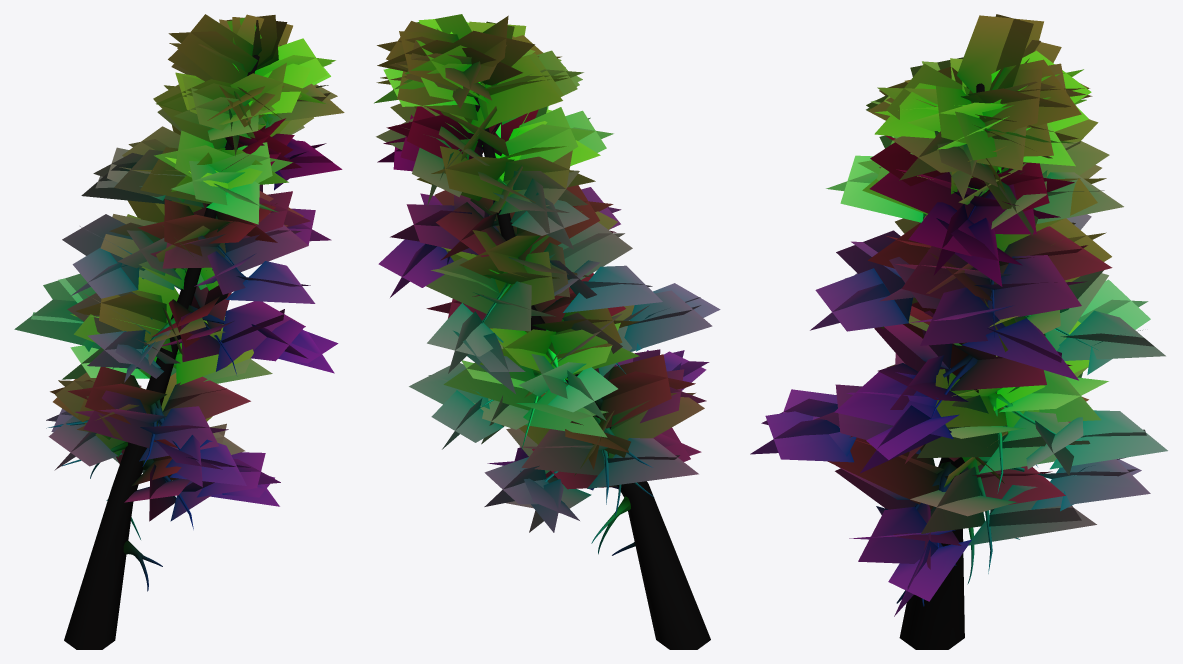
File: M_Pine_1_11.fbx
3 renders of one model, left to right at view 1: azimuth 30°, elevation 25°; view 2: azimuth 150°, elevation 25°; view 3: azimuth 270°, elevation 25°, orthographic. The views are drawn at different scales.
Parts seen in each view (by area): view 1: Tree_11; view 2: Tree_11; view 3: Tree_11.
Boxes of the visible parts, x1,y1,x2,y2 form: Tree_11: (14, 14, 344, 649); Tree_11: (374, 14, 720, 649); Tree_11: (750, 14, 1167, 649).
Bounding box in the file's own units: 1406 × 2634 × 1404.
